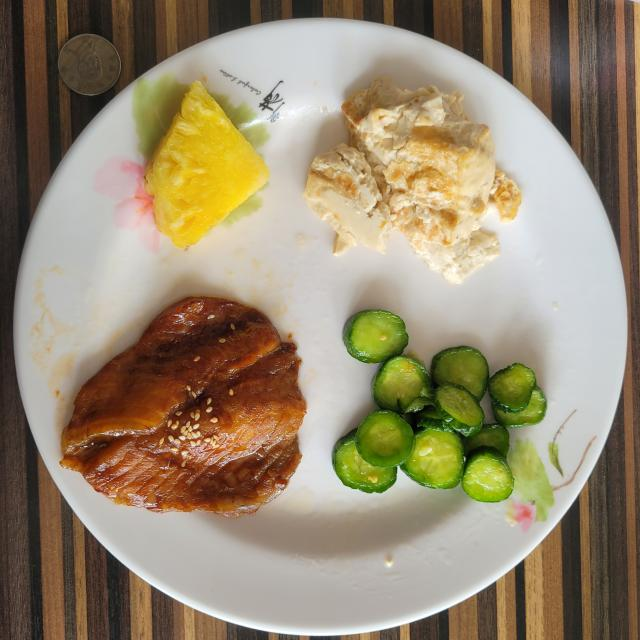Kabayaki sea bream fillet: (61, 296, 305, 515)
coin: (59, 34, 121, 95)
cucumber: (332, 310, 546, 502)
pineapple: (144, 81, 270, 248)
